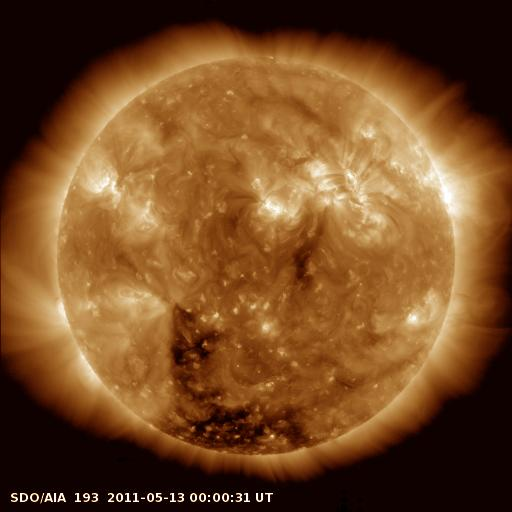coronal_hole: (166, 305, 306, 461), (285, 236, 321, 286)
